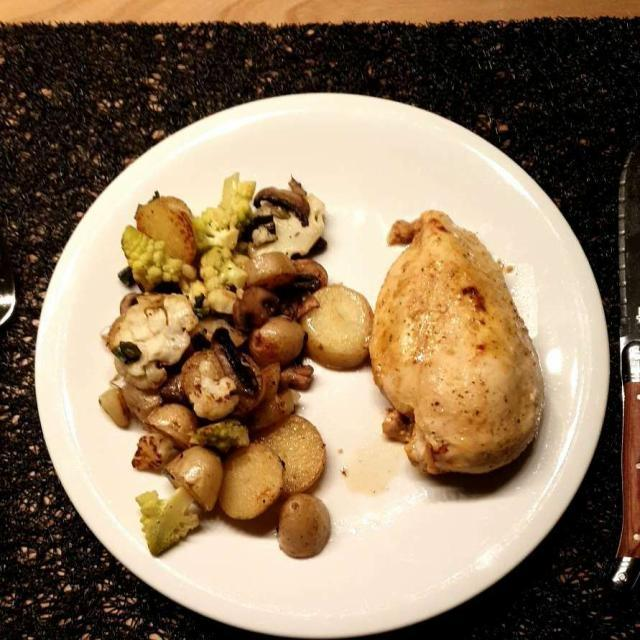chicken-breast: (367, 210, 548, 490)
mixed-vegetables: (108, 177, 311, 545)
potatoes: (101, 247, 383, 558)
